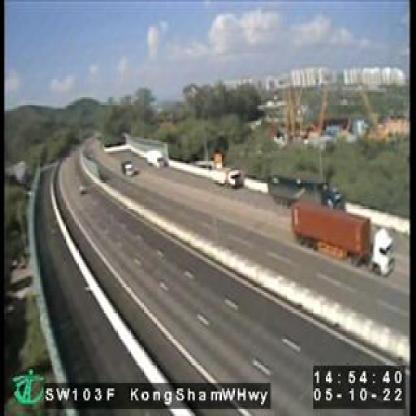Bus: (268, 170, 326, 204)
Truck: (291, 201, 395, 276), (212, 163, 240, 187), (147, 151, 165, 168), (121, 160, 134, 175)
